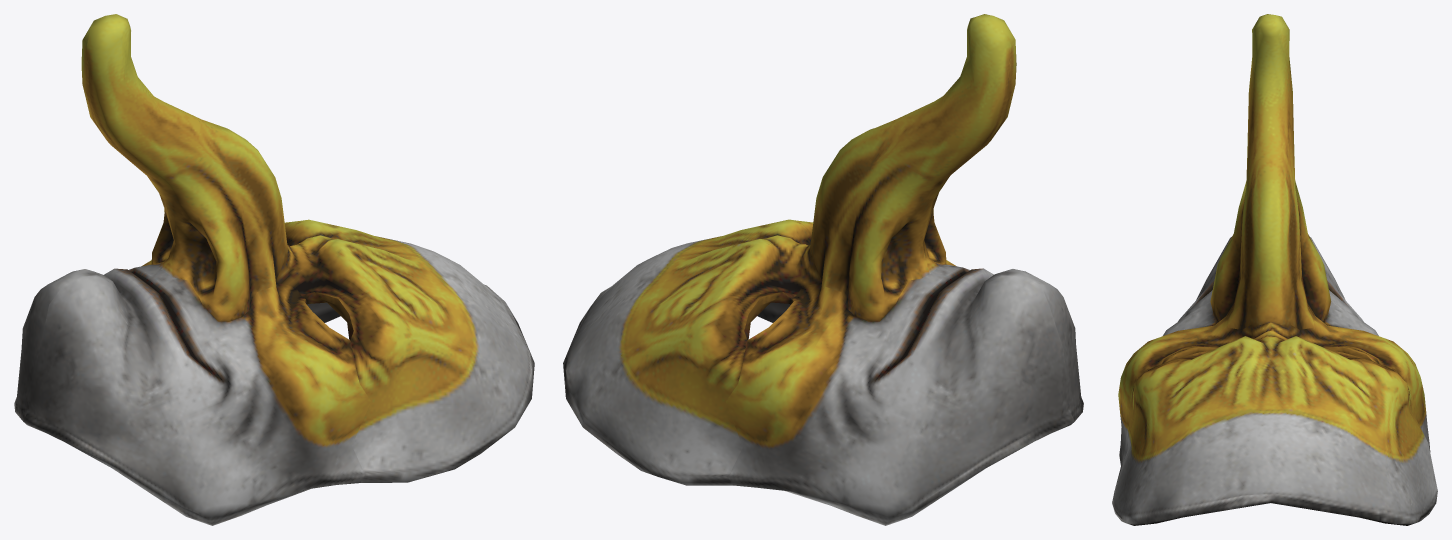
The model's file is VenetianMask_Ground.fbx.
3 renders of one model, left to right at view 1: azimuth 30°, elevation 25°; view 2: azimuth 150°, elevation 25°; view 3: azimuth 270°, elevation 25°, orthographic. The views are drawn at different scales.
Parts seen in each view (by area): view 1: Mask7; view 2: Mask7; view 3: Mask7.
Part boxes in pixels (box(x1,y1,x2,y2)): Mask7: box(14, 14, 534, 525); Mask7: box(563, 14, 1083, 525); Mask7: box(1112, 14, 1437, 525).
Size of the model in its own units: 0.1395 by 0.1307 by 0.0959.
